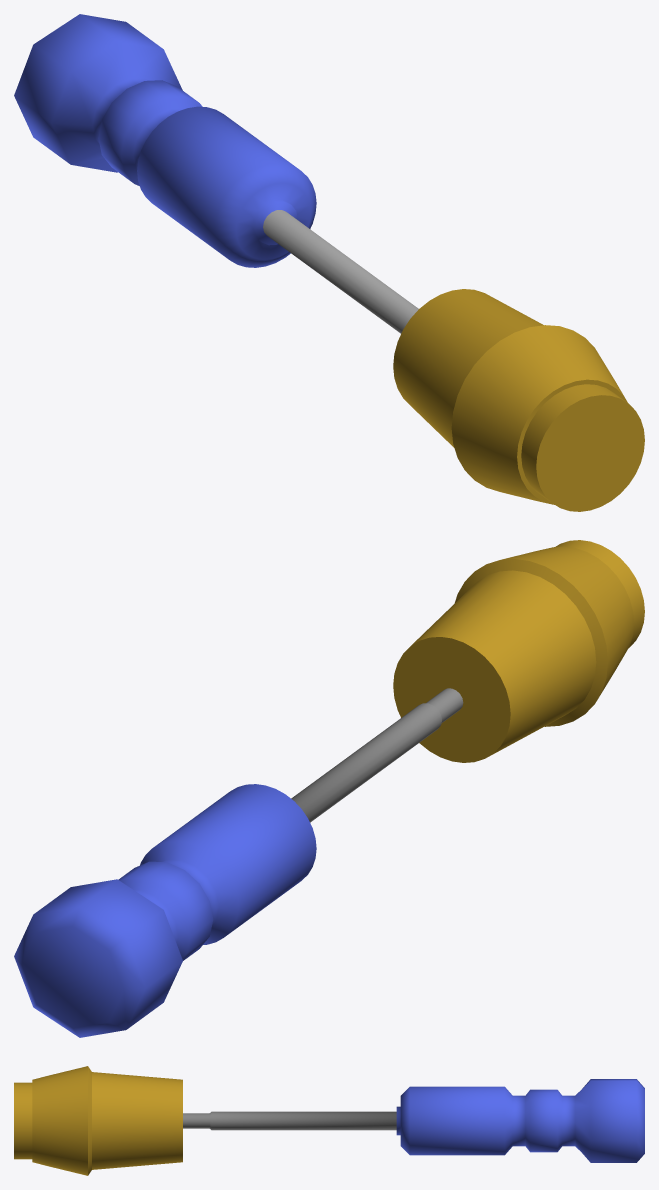
Rendered from DriverWithAbutment.fbx.
3 renders of one model, top to bottom at view 1: azimuth 30°, elevation 25°; view 2: azimuth 150°, elevation 25°; view 3: azimuth 270°, elevation 25°, orthographic. The views are drawn at different scales.
Visible parts, largest first — view 1: DriverWithAbutment, AbutmentWithDriver; view 2: DriverWithAbutment, AbutmentWithDriver; view 3: DriverWithAbutment, AbutmentWithDriver.
Part boxes in pixels (left/top/right/bottom): DriverWithAbutment: left=14, top=14, right=418, bottom=333; AbutmentWithDriver: left=393, top=289, right=644, bottom=511; DriverWithAbutment: left=14, top=688, right=463, bottom=1037; AbutmentWithDriver: left=393, top=540, right=644, bottom=762; DriverWithAbutment: left=183, top=1079, right=644, bottom=1162; AbutmentWithDriver: left=14, top=1066, right=182, bottom=1175.
Size of the model in its own units: 0.992 by 0.992 by 5.69.
